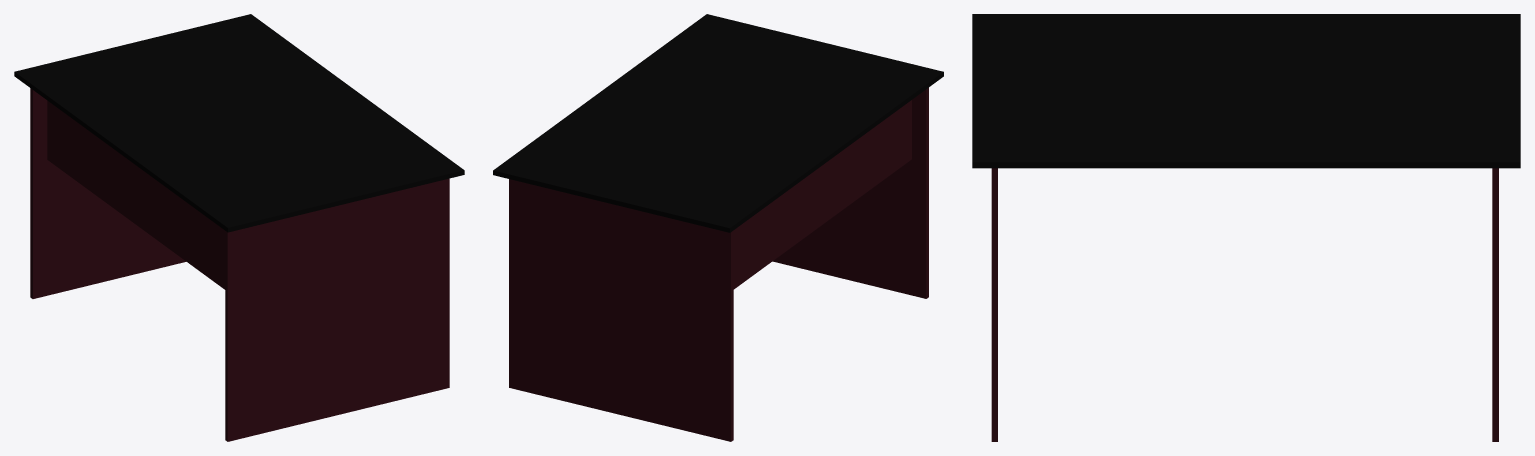
File: SM_Table_002.fbx
3 views of the same model, side by side, from view 1: azimuth 30°, elevation 25°; view 2: azimuth 150°, elevation 25°; view 3: azimuth 270°, elevation 25° (orthographic). The views are drawn at different scales.
Visible parts, largest first — view 1: SM_Table; view 2: SM_Table; view 3: SM_Table.
Boxes of the visible parts, <box> form: SM_Table: <box>14,14,464,441</box>; SM_Table: <box>493,14,943,441</box>; SM_Table: <box>972,14,1520,441</box>.
Bounding box in the file's own units: 110 × 98.22 × 172.
